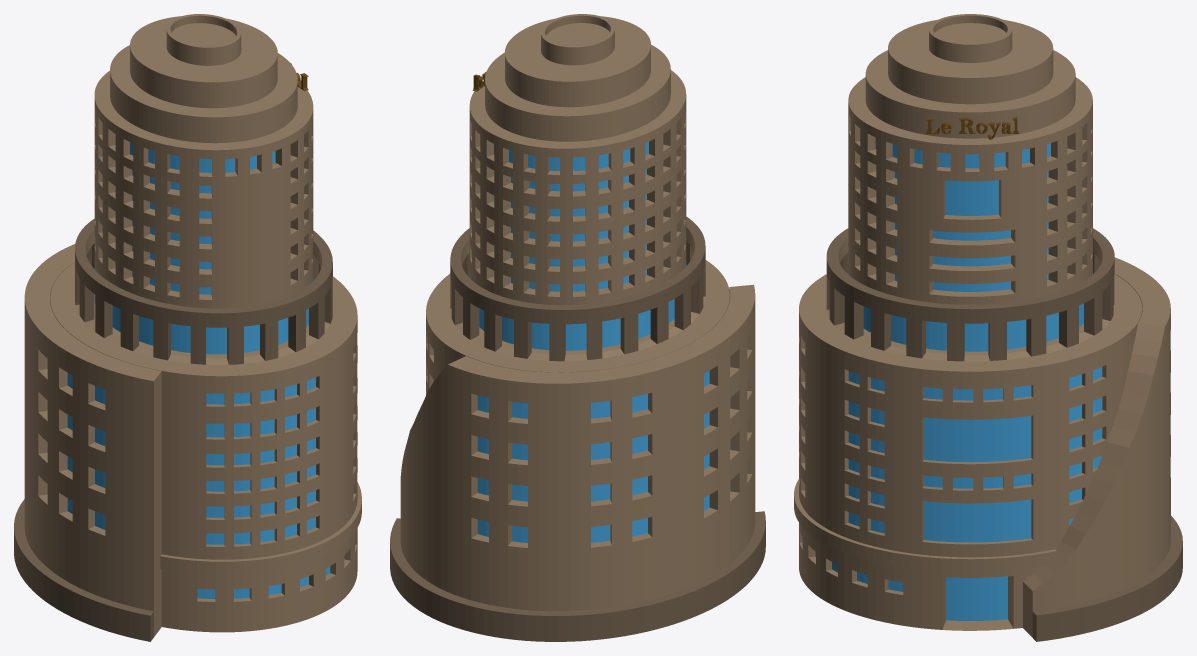
The model's file is Royal.fbx.
The picture shows the model from 3 angles, left to right: view 1: azimuth 30°, elevation 25°; view 2: azimuth 150°, elevation 25°; view 3: azimuth 270°, elevation 25°; orthographic projection. The views are drawn at different scales.
Visible parts, largest first — view 1: Text; view 2: Text; view 3: Text.
Part boxes in pixels (x1,y1,x2,y2): Text: (14,14,361,641); Text: (390,14,765,641); Text: (794,14,1182,641).
Size of the model in its own units: 631 by 1038 by 680.
